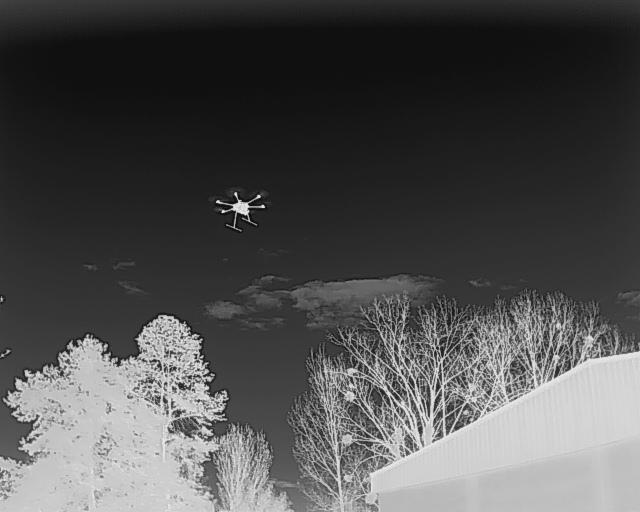drone: (210, 182, 268, 233)
